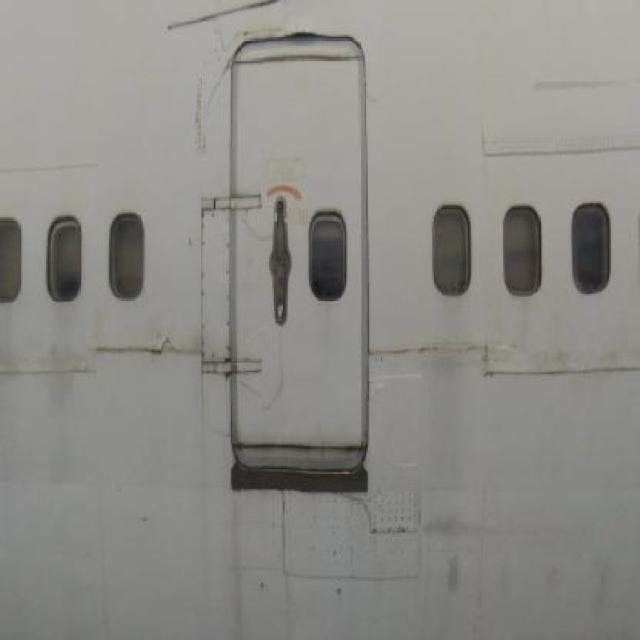Missing-Rivet: (197, 190, 238, 384)
Scartch: (164, 0, 278, 45), (87, 334, 201, 371), (188, 61, 227, 152)
